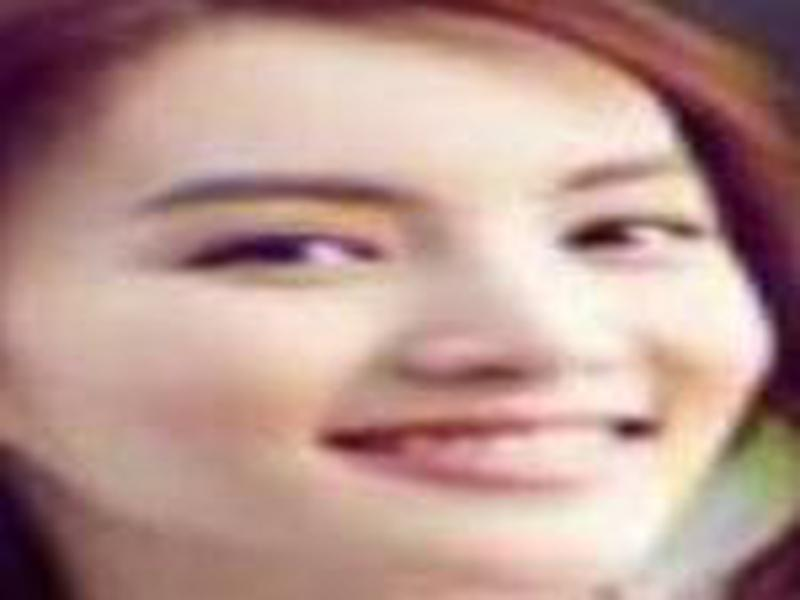without_mask: (48, 36, 782, 600)
